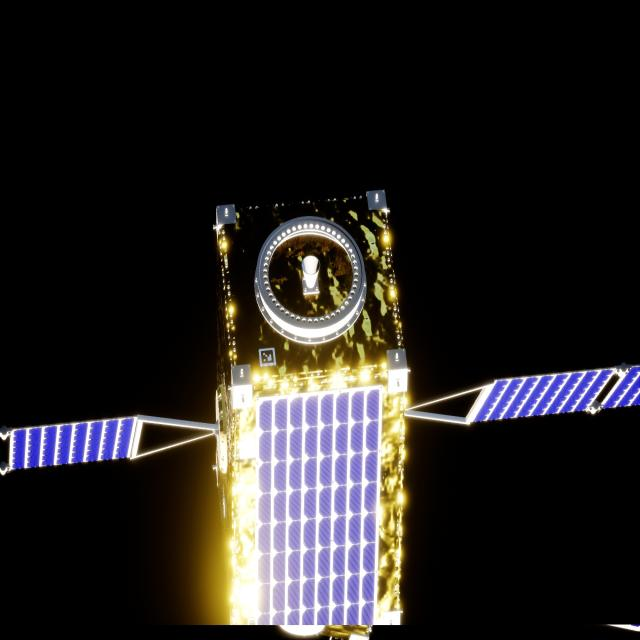satellite: (0, 189, 640, 629)
